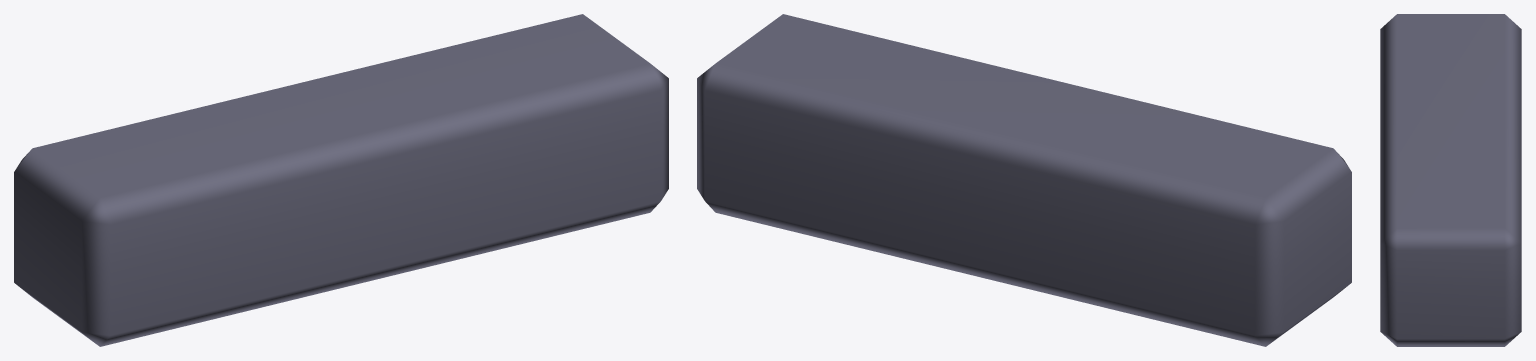
File: mod_sc_tdm_roma_ground_006.fbx
3 views of the same model, side by side, from view 1: azimuth 30°, elevation 25°; view 2: azimuth 150°, elevation 25°; view 3: azimuth 270°, elevation 25° (orthographic). The views are drawn at different scales.
Parts seen in each view (by area): view 1: mod_sc_tdm_roma_ground_006; view 2: mod_sc_tdm_roma_ground_006; view 3: mod_sc_tdm_roma_ground_006.
Part boxes in pixels (bbox=[...]): mod_sc_tdm_roma_ground_006: bbox=[14, 14, 668, 346]; mod_sc_tdm_roma_ground_006: bbox=[697, 14, 1351, 346]; mod_sc_tdm_roma_ground_006: bbox=[1380, 14, 1521, 346].
Size of what is drawn, in the model's own units: 191 by 46.44 by 50.11.
Materials: 1 (1 with a texture image).
